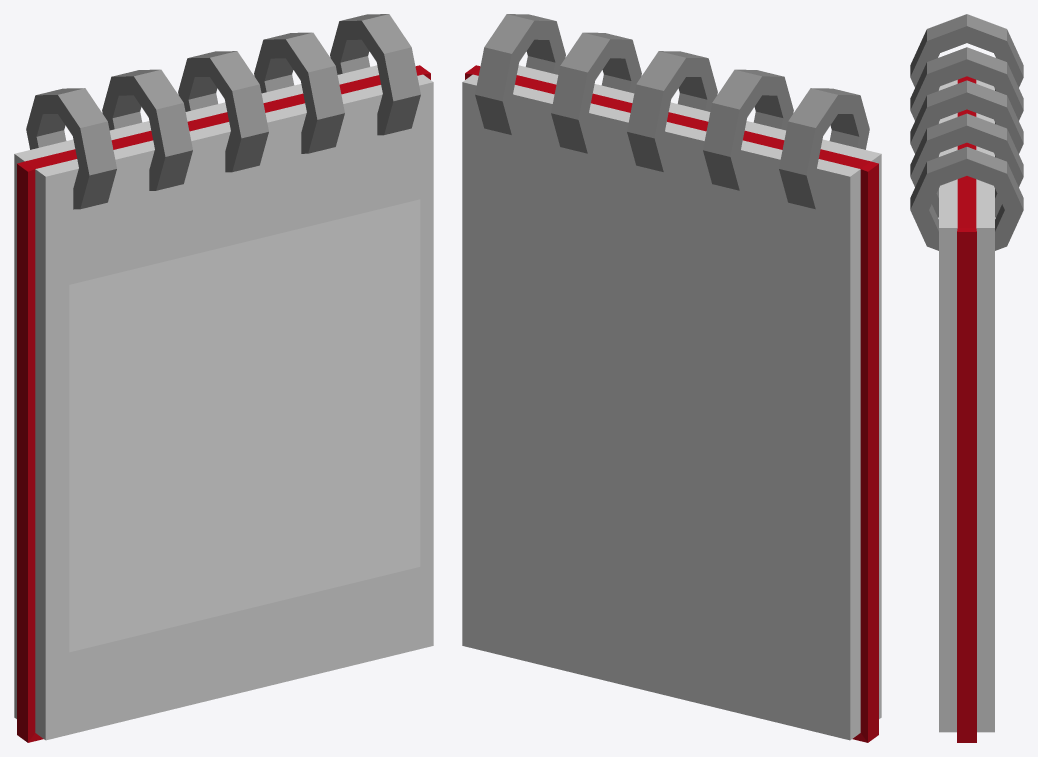
File: escape_bloquinho.fbx
3 views of the same model, side by side, from view 1: azimuth 30°, elevation 25°; view 2: azimuth 150°, elevation 25°; view 3: azimuth 270°, elevation 25° (orthographic). The views are drawn at different scales.
Visible parts, largest first — view 1: Bloquinho, BloquinhoDesenho; view 2: Bloquinho; view 3: Bloquinho.
Part boxes in pixels (box(x1,y1,x2,y2)): Bloquinho: box(14, 14, 433, 742); BloquinhoDesenho: box(69, 199, 420, 652); Bloquinho: box(462, 14, 881, 742); Bloquinho: box(910, 14, 1023, 742).
Bounding box in the file's own units: 89.81 × 135 × 24.46.
